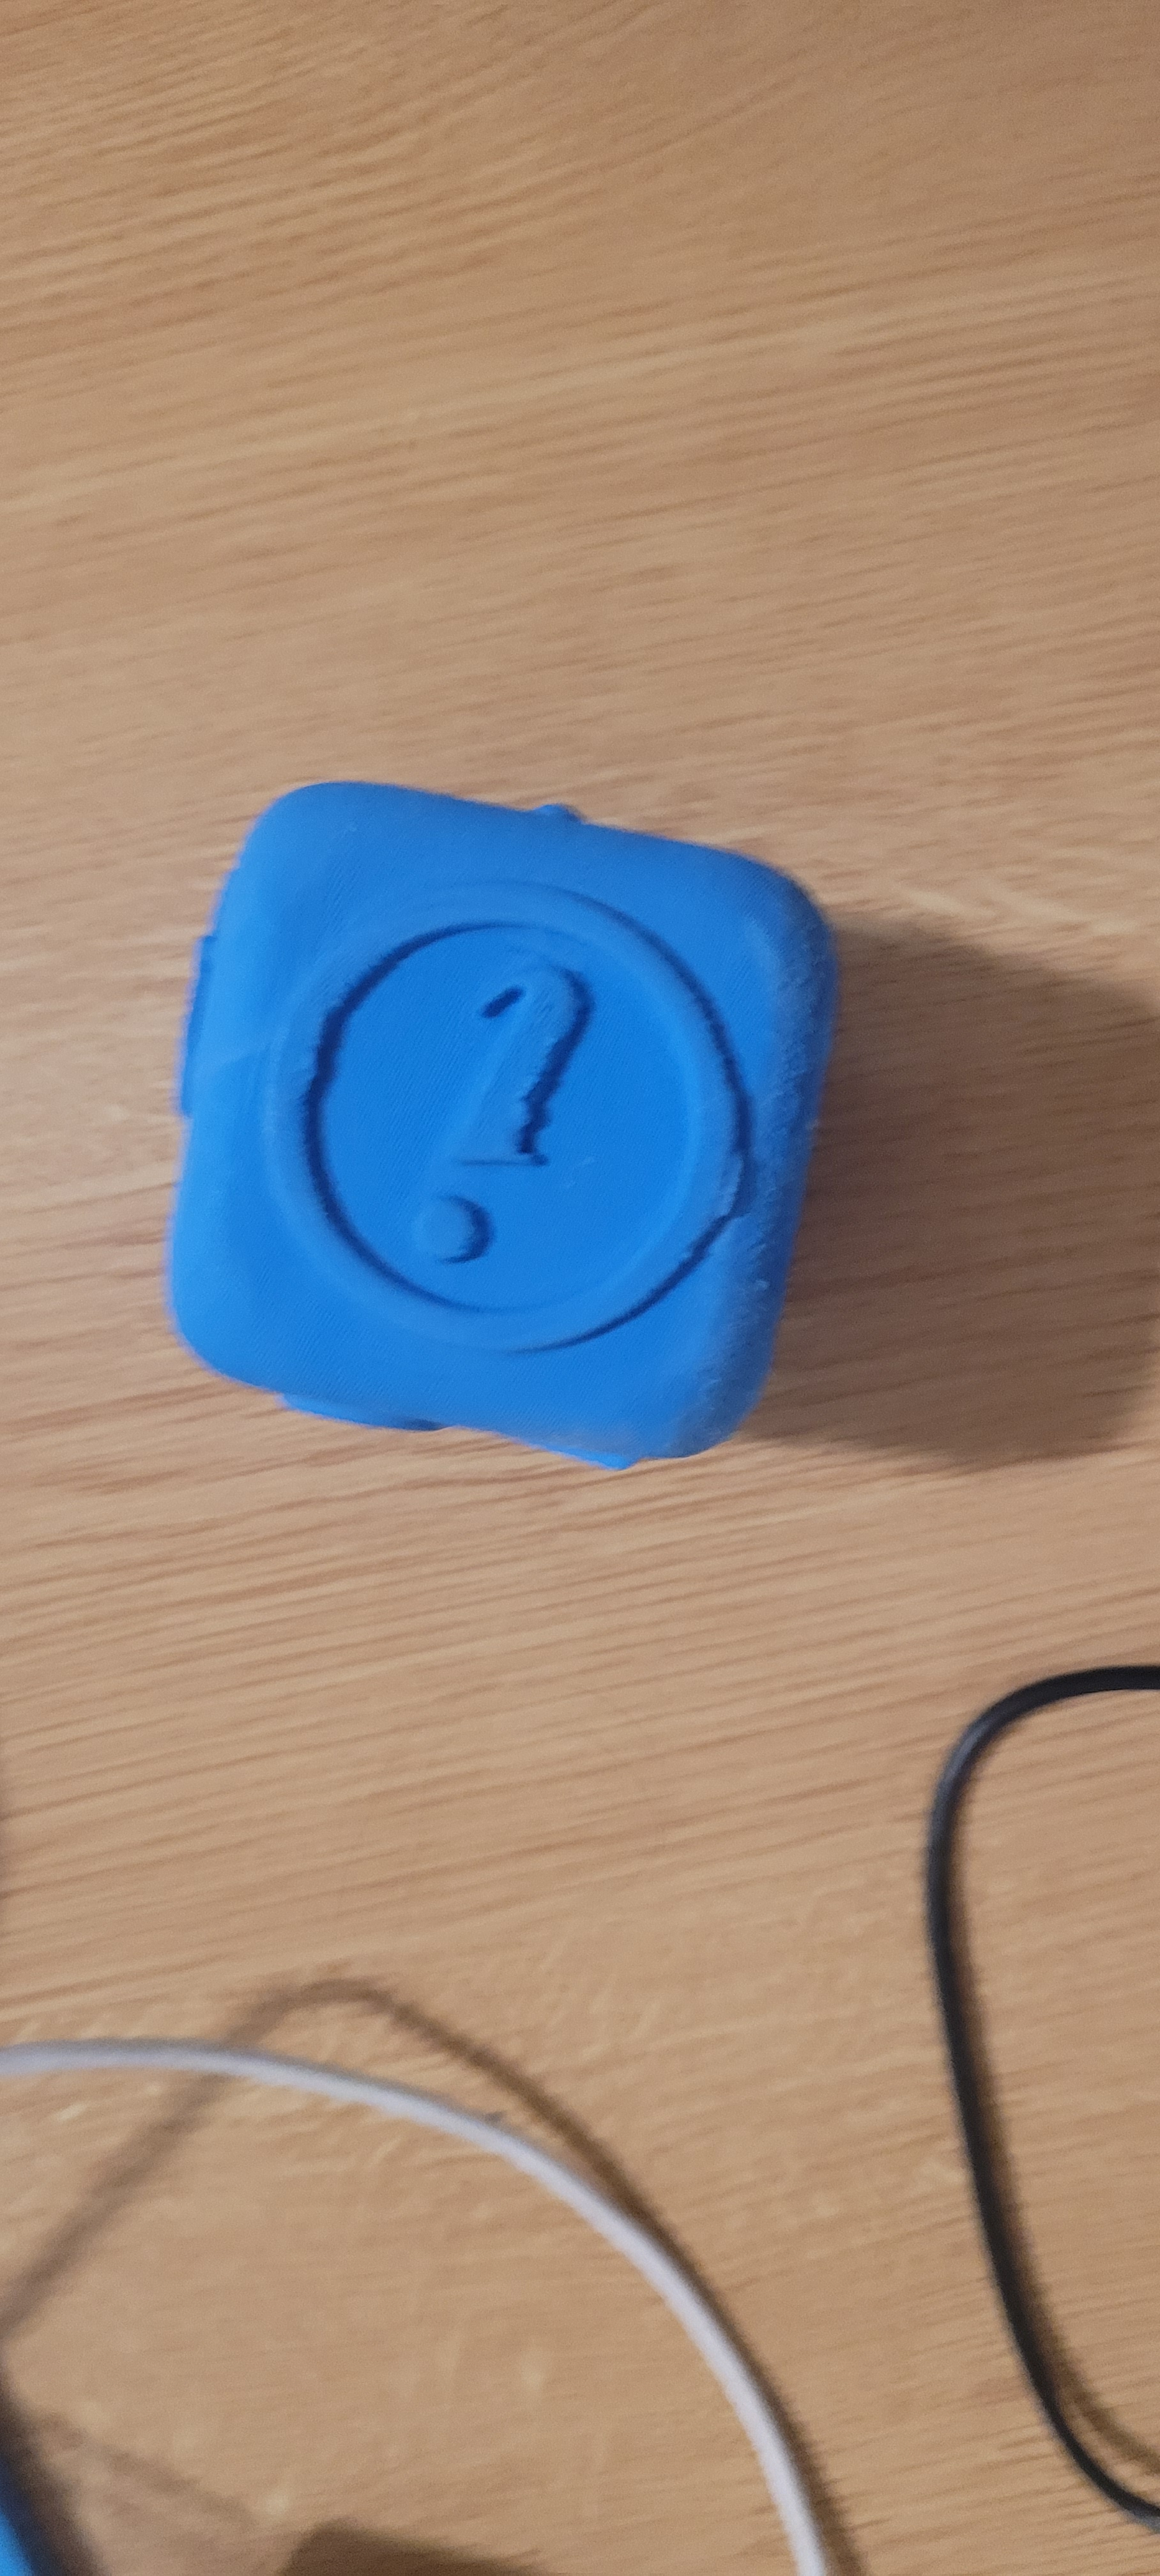Info: (204, 890, 784, 1400)
